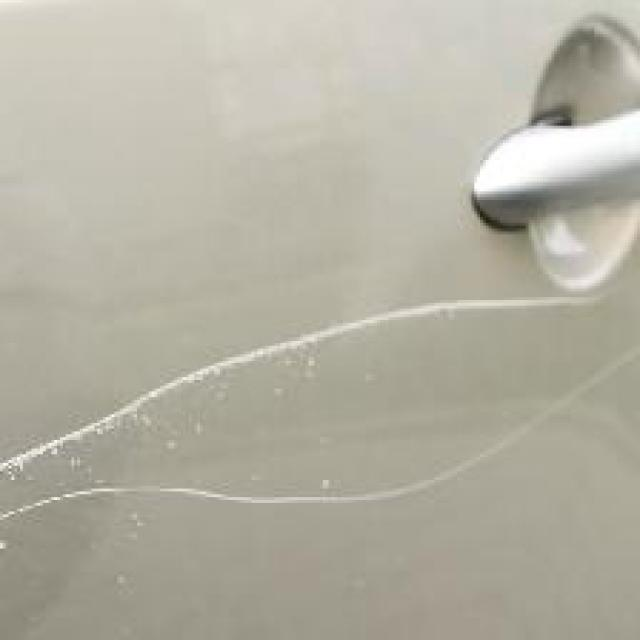damaged: (0, 297, 631, 554)
